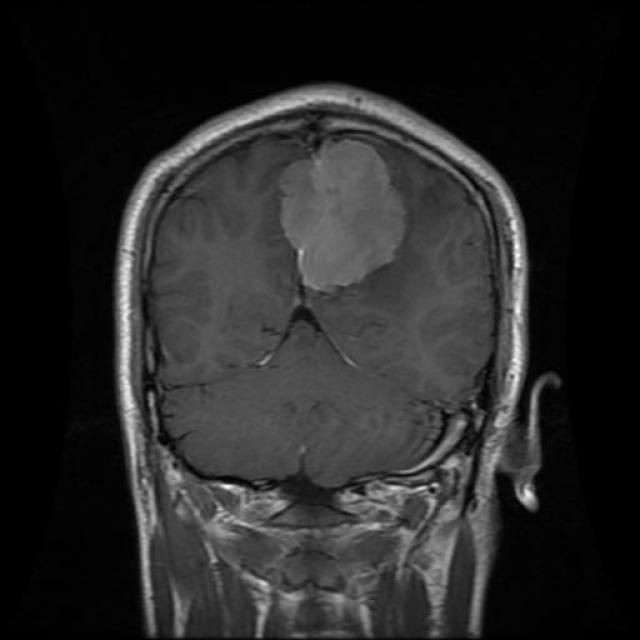meningioma: (279, 140, 409, 295)
